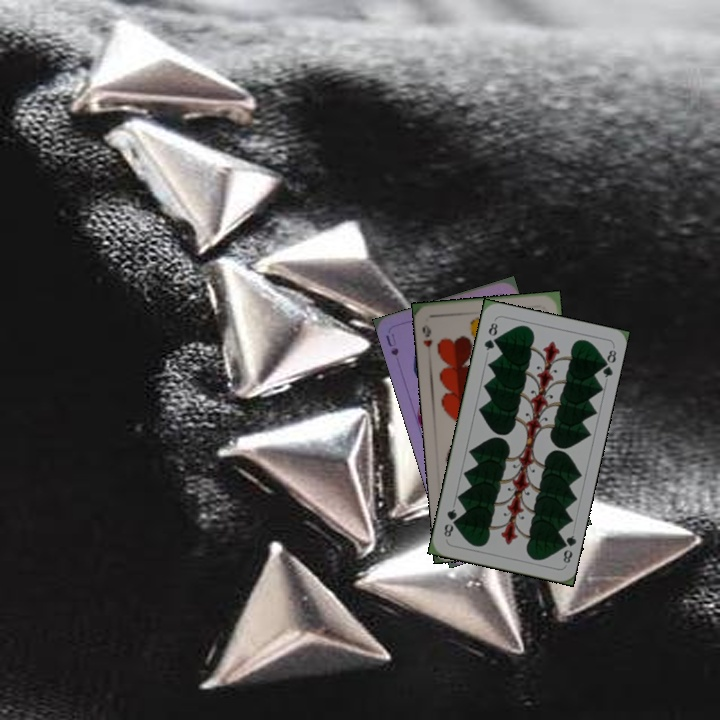G8: (556, 531, 578, 568), (480, 318, 500, 353)
H9: (418, 321, 435, 349)
SU: (381, 329, 401, 358)
